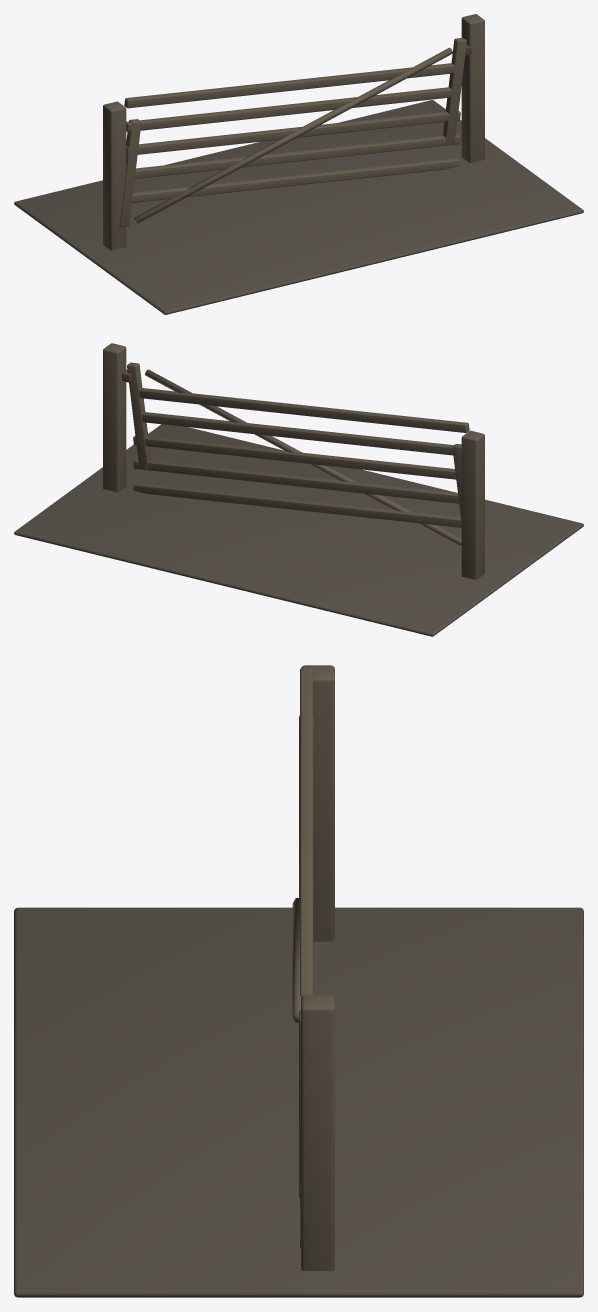
The model's file is hedge_gap_v1.glb.
3 views of the same model, one above another, from view 1: azimuth 30°, elevation 25°; view 2: azimuth 150°, elevation 25°; view 3: azimuth 270°, elevation 25° (orthographic). The views are drawn at different scales.
Parts seen in each view (by area): view 1: HedgeGap; view 2: HedgeGap; view 3: HedgeGap.
Boxes of the visible parts, <box> form: HedgeGap: <box>14,14,583,314</box>; HedgeGap: <box>14,343,583,636</box>; HedgeGap: <box>14,665,583,1297</box>.
Size of the model in its own units: 4.8 by 1.64 by 3.
